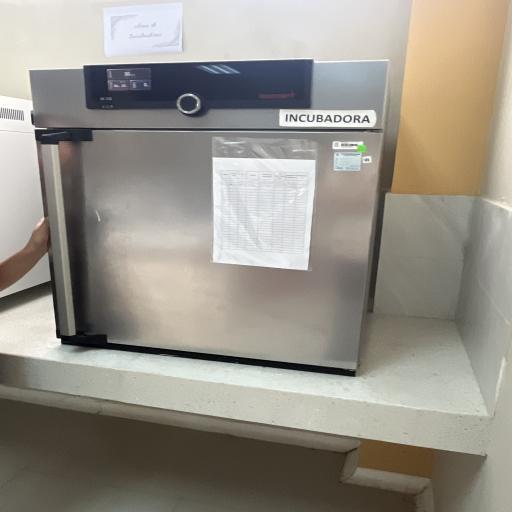Incubadora: (21, 57, 402, 386)
